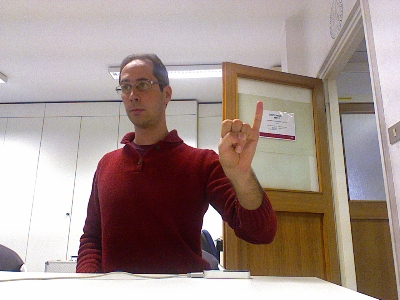小指: (217, 99, 264, 172)
